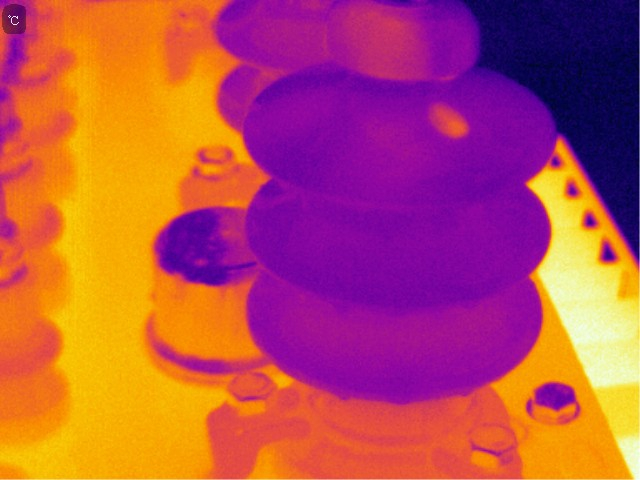Oil: (328, 1, 433, 82), (425, 98, 475, 140)
